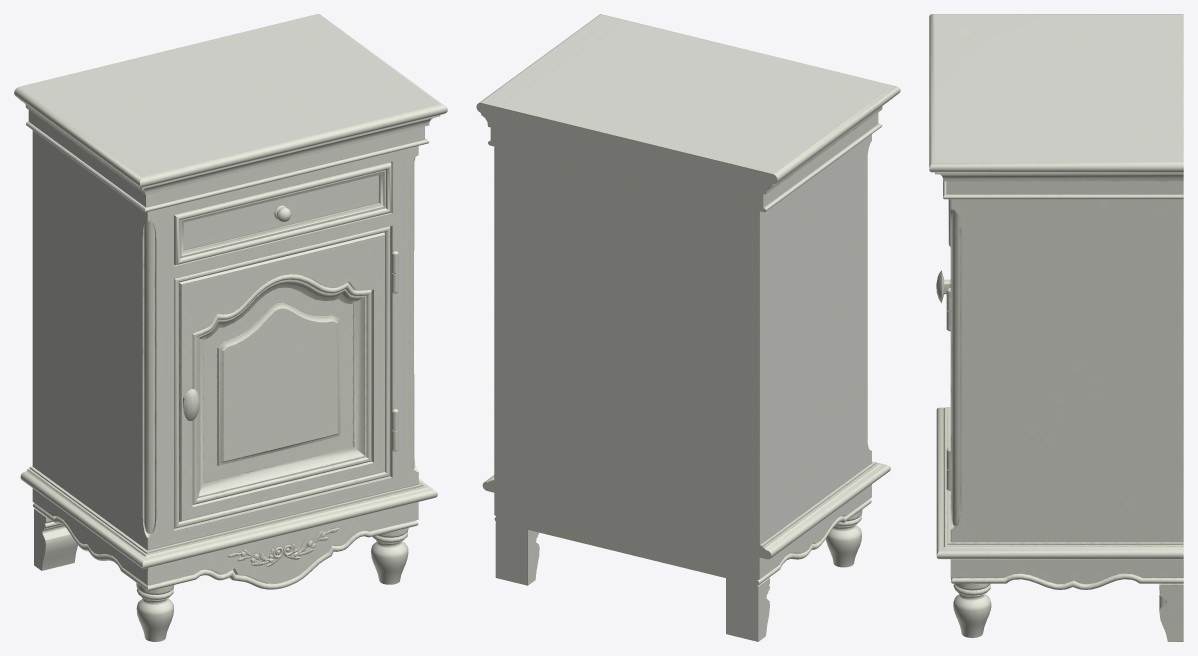
The model's file is example172.gltf.
3 renders of one model, left to right at view 1: azimuth 30°, elevation 25°; view 2: azimuth 150°, elevation 25°; view 3: azimuth 270°, elevation 25°, orthographic. The views are drawn at different scales.
Bounding box in the file's own units: 46.8 × 70 × 33.1.
Materials: 1 (1 with a texture image).
